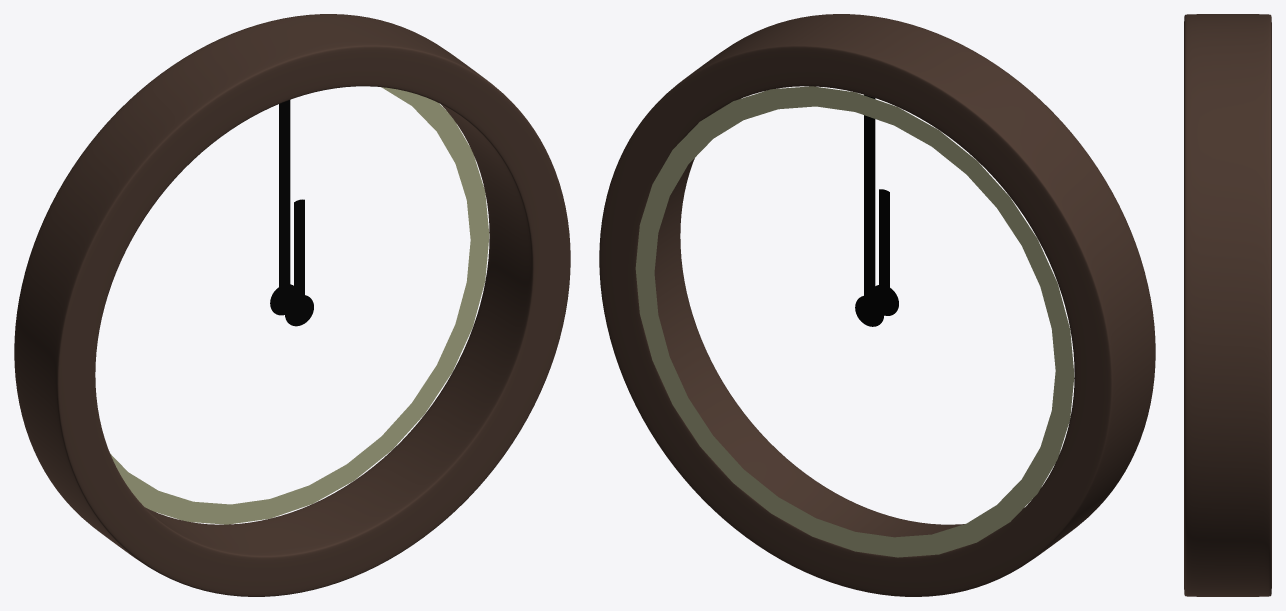
Rendered from watch.glb.
3 renders of one model, left to right at view 1: azimuth 30°, elevation 25°; view 2: azimuth 150°, elevation 25°; view 3: azimuth 270°, elevation 25°, orthographic.
Parts seen in each view (by area): view 1: Circle, Circle.001, Circle.002, Circle.003; view 2: Circle, Circle.001, Circle.002, Circle.003; view 3: Circle.
Boxes of the visible parts, <box> form: Circle: <box>14,14,570,596</box>; Circle.001: <box>110,87,489,524</box>; Circle.002: <box>270,100,293,315</box>; Circle.003: <box>285,199,313,326</box>; Circle: <box>599,14,1155,596</box>; Circle.001: <box>635,86,1074,557</box>; Circle.002: <box>855,94,884,326</box>; Circle.003: <box>875,189,898,315</box>; Circle: <box>1184,14,1271,596</box>.
Size of the model in its own units: 5.96 by 5.96 by 0.8998.
